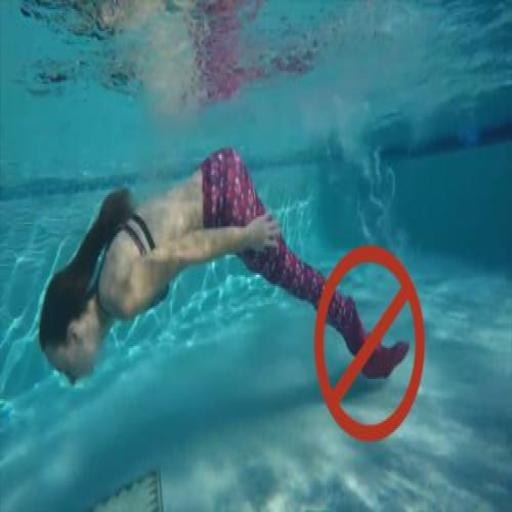swimming: (36, 144, 410, 392)
